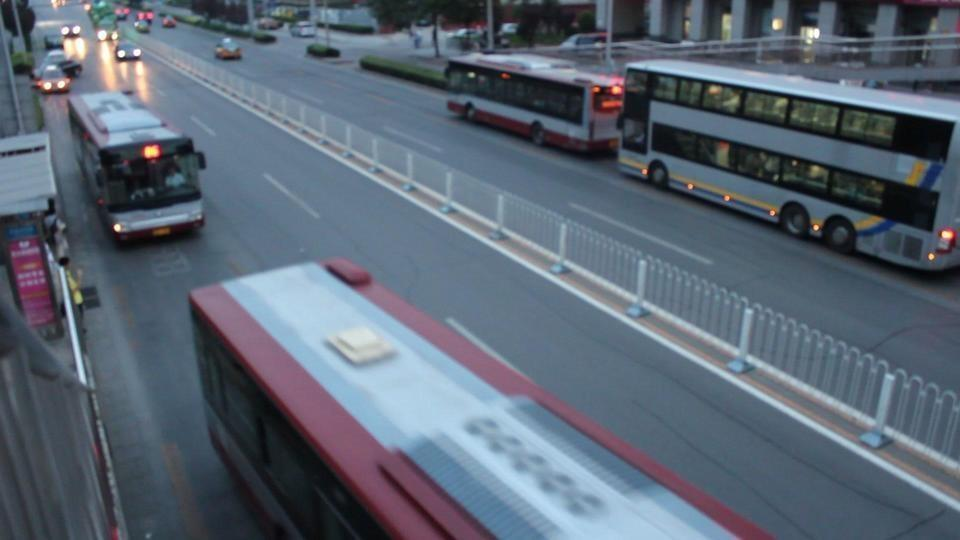car: (30, 51, 82, 94), (57, 24, 90, 64), (556, 33, 610, 56), (214, 38, 243, 61), (115, 38, 143, 61), (133, 11, 154, 34), (289, 22, 317, 39), (159, 15, 177, 29)
